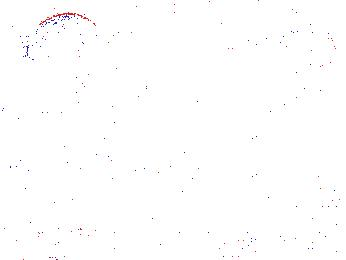moon jellyfish: (1, 90, 97, 180), (256, 31, 343, 99), (28, 13, 108, 82), (195, 12, 272, 75), (88, 7, 177, 41)
